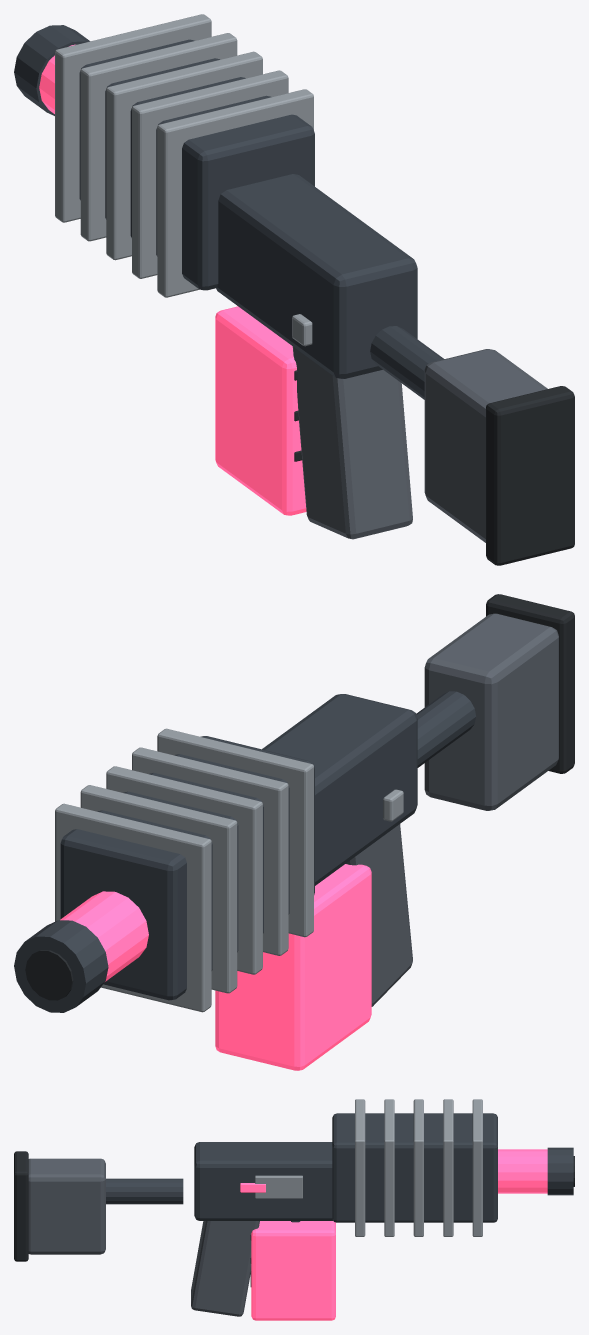
Rendered from laser.glb.
3 views of the same model, one above another, from view 1: azimuth 30°, elevation 25°; view 2: azimuth 150°, elevation 25°; view 3: azimuth 270°, elevation 25° (orthographic). The views are drawn at different scales.
Visible parts, largest first — view 1: Arma_laser; view 2: Arma_laser; view 3: Arma_laser.
Part boxes in pixels (x1=…): Arma_laser: x1=14, y1=14, x2=574, y2=565; Arma_laser: x1=14, y1=594, x2=574, y2=1070; Arma_laser: x1=14, y1=1099, x2=574, y2=1320.
Bounding box in the file's own units: 0.27 × 0.57 × 1.52.
